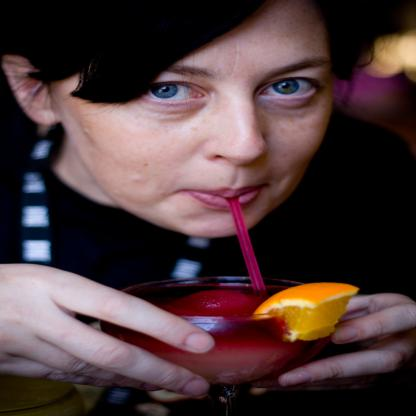Orange: (259, 282, 351, 341)
